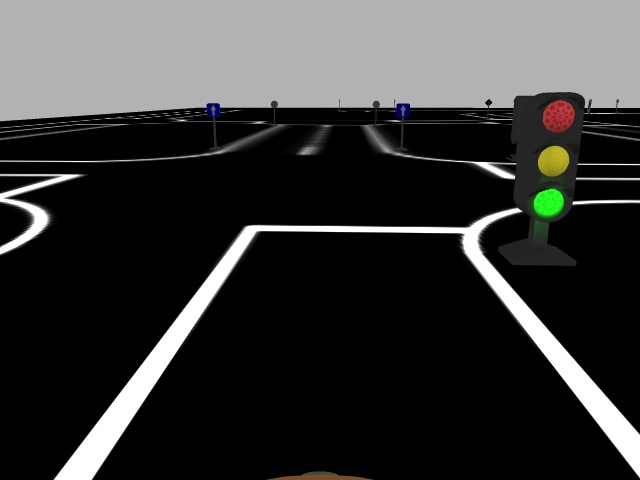green_light: (510, 90, 585, 222)
oneway: (205, 102, 221, 119), (394, 103, 410, 118)
